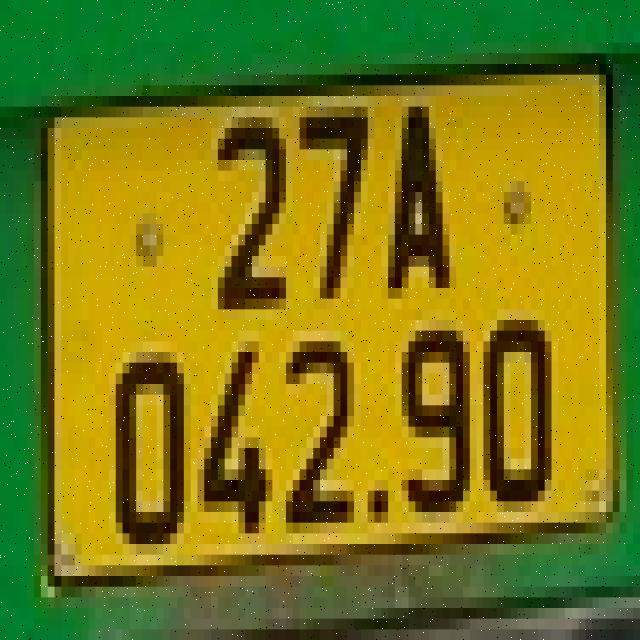0: (106, 340, 194, 556), (478, 310, 558, 513)
2: (212, 114, 291, 319), (277, 334, 355, 534)
4: (200, 339, 275, 545)
7: (296, 99, 369, 304)
9: (394, 314, 474, 520)
A: (388, 96, 451, 297)
